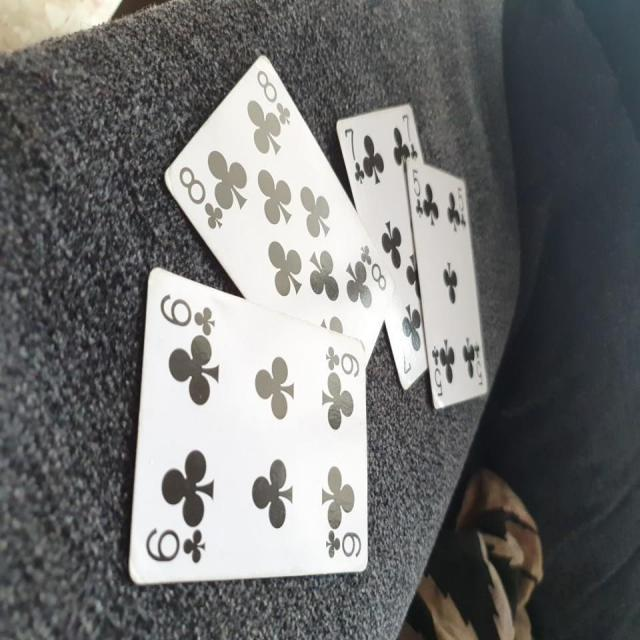5 of clubs: (405, 156, 492, 410)
6 of clubs: (124, 266, 371, 590)
7 of clubs: (336, 100, 429, 394)
8 of clubs: (163, 54, 397, 372)
